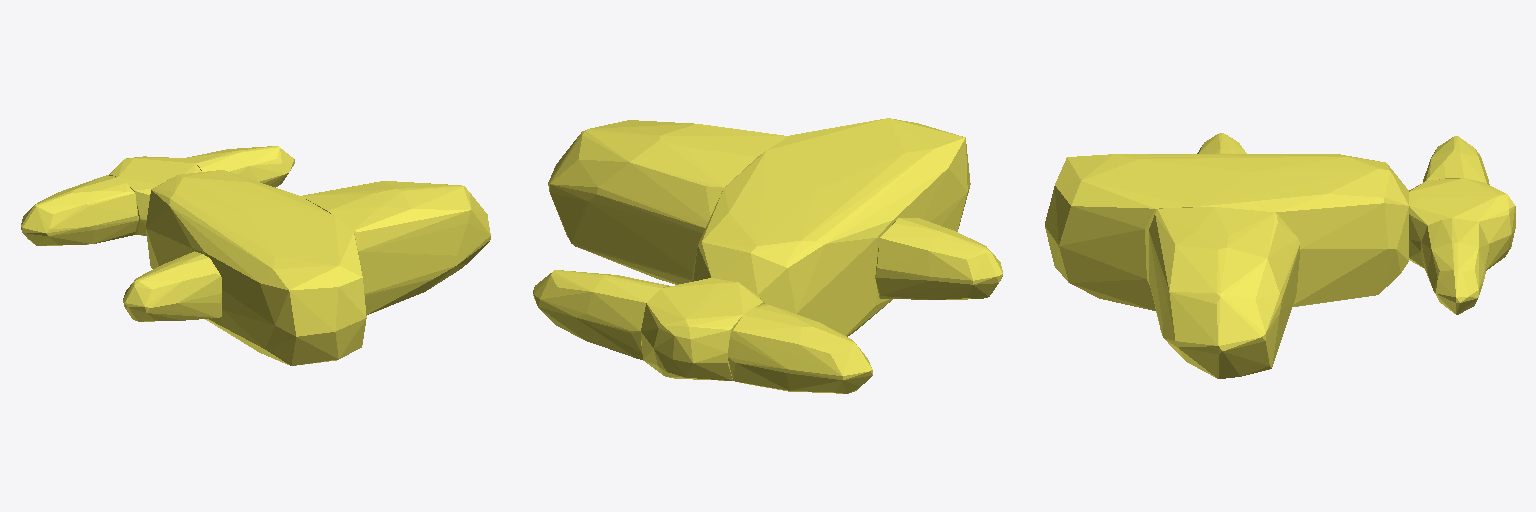
robot.urdf — blob270:
<robot name="blob270">
  <link name="random_obj_270">
    <contact>
      <lateral_friction value="1.0"/>
      <rolling_friction value="0.0"/>
      <inertia_scaling value="3.0"/>
      <contact_cfm value="0.0"/>
      <contact_erp value="1.0"/>
    </contact>
    <inertial>
      <origin rpy="0 0 0" xyz="0 0 0"/>
      <mass value="0.1"/>
      <inertia ixx="1" ixy="0" ixz="0" iyy="1" iyz="0" izz="0"/>
    </inertial>
    <visual>
      <origin rpy="0 0 0" xyz="0 0 0"/>
      <geometry>
        <mesh filename="270.obj" scale="0.015 0.015 0.015"/>
      </geometry>
      <material name="blockmat">
        <color rgba="0.95 0.92 0.39 1"/>
      </material>
    </visual>
    <collision>
      <origin rpy="0 0 0" xyz="0 0 0"/>
      <geometry>
        <mesh filename="270.obj" scale="0.015 0.015 0.015"/>
      </geometry>
    </collision>
  </link>
</robot>

--- Facts derived from the render (not from the file) ---
The picture shows the robot from 3 angles, left to right: view 1: azimuth 30°, elevation 25°; view 2: azimuth 150°, elevation 25°; view 3: azimuth 270°, elevation 25°; orthographic projection.
Robot: blob270 — 1 links, 0 joints (none); root link random_obj_270; default pose: every joint at zero.
Visible links, largest first — view 1: random_obj_270; view 2: random_obj_270; view 3: random_obj_270.
Link boxes in pixels (box(x1,y1,x2,y2)): random_obj_270: box(21, 146, 490, 365); random_obj_270: box(533, 118, 1002, 393); random_obj_270: box(1045, 133, 1515, 378).
Size in the robot's own frame: 0.1208 by 0.1203 by 0.0314 metres.
Meshes: 1 distinct files referenced, 1 mesh visuals loaded (1 OBJ).